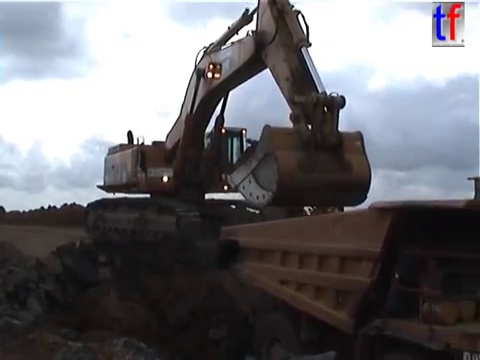excavator: (82, 1, 376, 250)
truck: (215, 173, 480, 360)
wheel loader: (288, 185, 348, 231)
